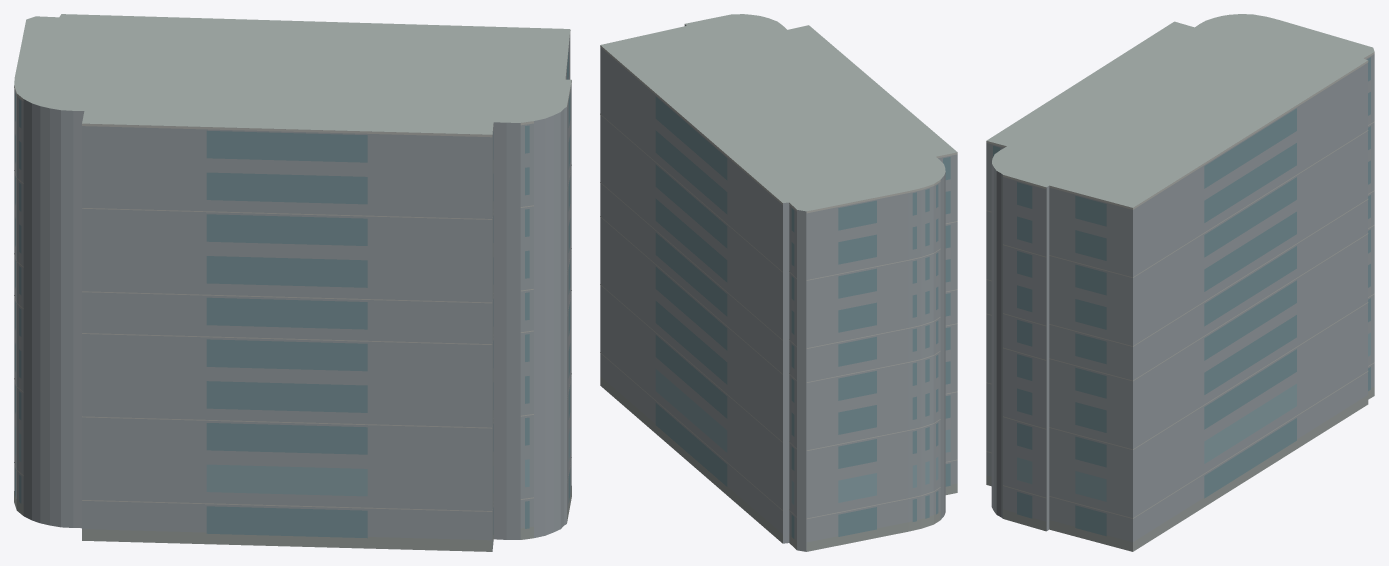
File: survey-upis-32738735.glb
The picture shows the model from 3 angles, left to right: view 1: azimuth 30°, elevation 25°; view 2: azimuth 150°, elevation 25°; view 3: azimuth 270°, elevation 25°; orthographic projection. The views are drawn at different scales.
Visible parts, largest first — view 1: survey-upis-32738735.tmp; view 2: survey-upis-32738735.tmp; view 3: survey-upis-32738735.tmp.
Part boxes in pixels (x1,y1,x2,y2): survey-upis-32738735.tmp: [14, 14, 571, 551]; survey-upis-32738735.tmp: [600, 14, 957, 551]; survey-upis-32738735.tmp: [986, 14, 1374, 551].
Size of the model in its own units: 49.75 by 41.15 by 42.13.
